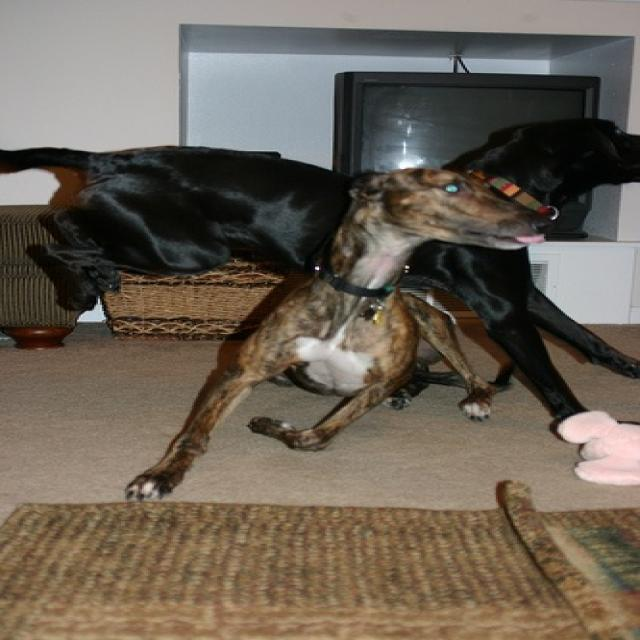dog: (2, 115, 638, 435), (121, 165, 550, 502)
tvmonitor: (332, 69, 608, 237)
